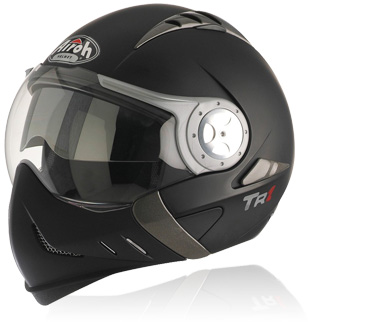helmet: (15, 13, 291, 264)
